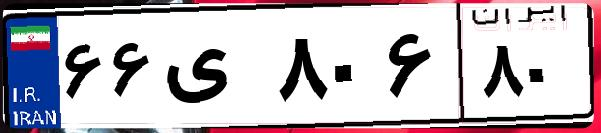0: (330, 28, 385, 110), (525, 38, 570, 115)
6: (385, 28, 445, 110), (57, 26, 110, 100), (110, 28, 158, 98)
8: (270, 28, 330, 110), (475, 38, 525, 113)
ی: (158, 20, 270, 120)
